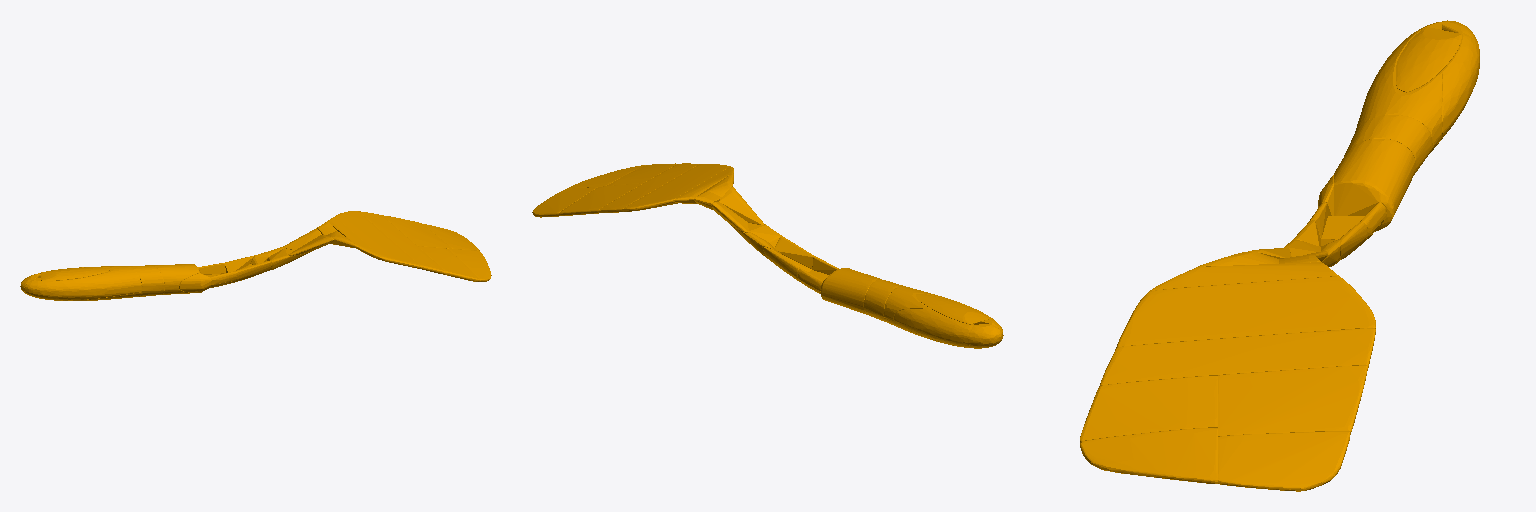
URDF robot description (033_spatula):
<?xml version="1.0" encoding="UTF-8"?>
<robot name="033_spatula">
	<link name="base">
		<collision>
			<geometry>
				<mesh filename="..\vhacd\033_spatula_vhacd.obj" scale="1.0 1.0 1.0"/>
			</geometry>
			<origin xyz="0 0 0"/>
			<contact_coefficients mu="0.24" />
		</collision>
		<visual>
			<geometry>
				<mesh filename="..\vhacd\033_spatula_vhacd.obj" scale="1.0 1.0 1.0"/>
			</geometry>
			<origin xyz="0 0 0"/>
		</visual>
		<inertial>
			<mass value="0"/>
			<inertia ixx="0.0" ixy="0.0" ixz="-0.0" iyy="0.0" iyz="0.0" izz="0.0" />
			<origin xyz="-0.04658104419258003 -0.07860574841893436 0.013189187816104623"/>
		</inertial>
	</link>
</robot>

--- Facts derived from the render (not from the file) ---
3 views of the same robot in one strip: view 1: azimuth 30°, elevation 25°; view 2: azimuth 150°, elevation 25°; view 3: azimuth 270°, elevation 25° (orthographic).
Robot: 033_spatula — 1 links, 0 joints (none); root link base; default pose: all joints at 0.
Links seen in each view (by area): view 1: base; view 2: base; view 3: base.
Boxes of the visible links, x1=… form: base: x1=20, y1=211, x2=491, y2=300; base: x1=532, y1=163, x2=1003, y2=348; base: x1=1080, y1=20, x2=1479, y2=491.
Bounding box of the posed robot: 0.3057 × 0.1248 × 0.0332 m (x, y, z).
1 mesh visuals loaded from 1 distinct referenced files (1 OBJ).